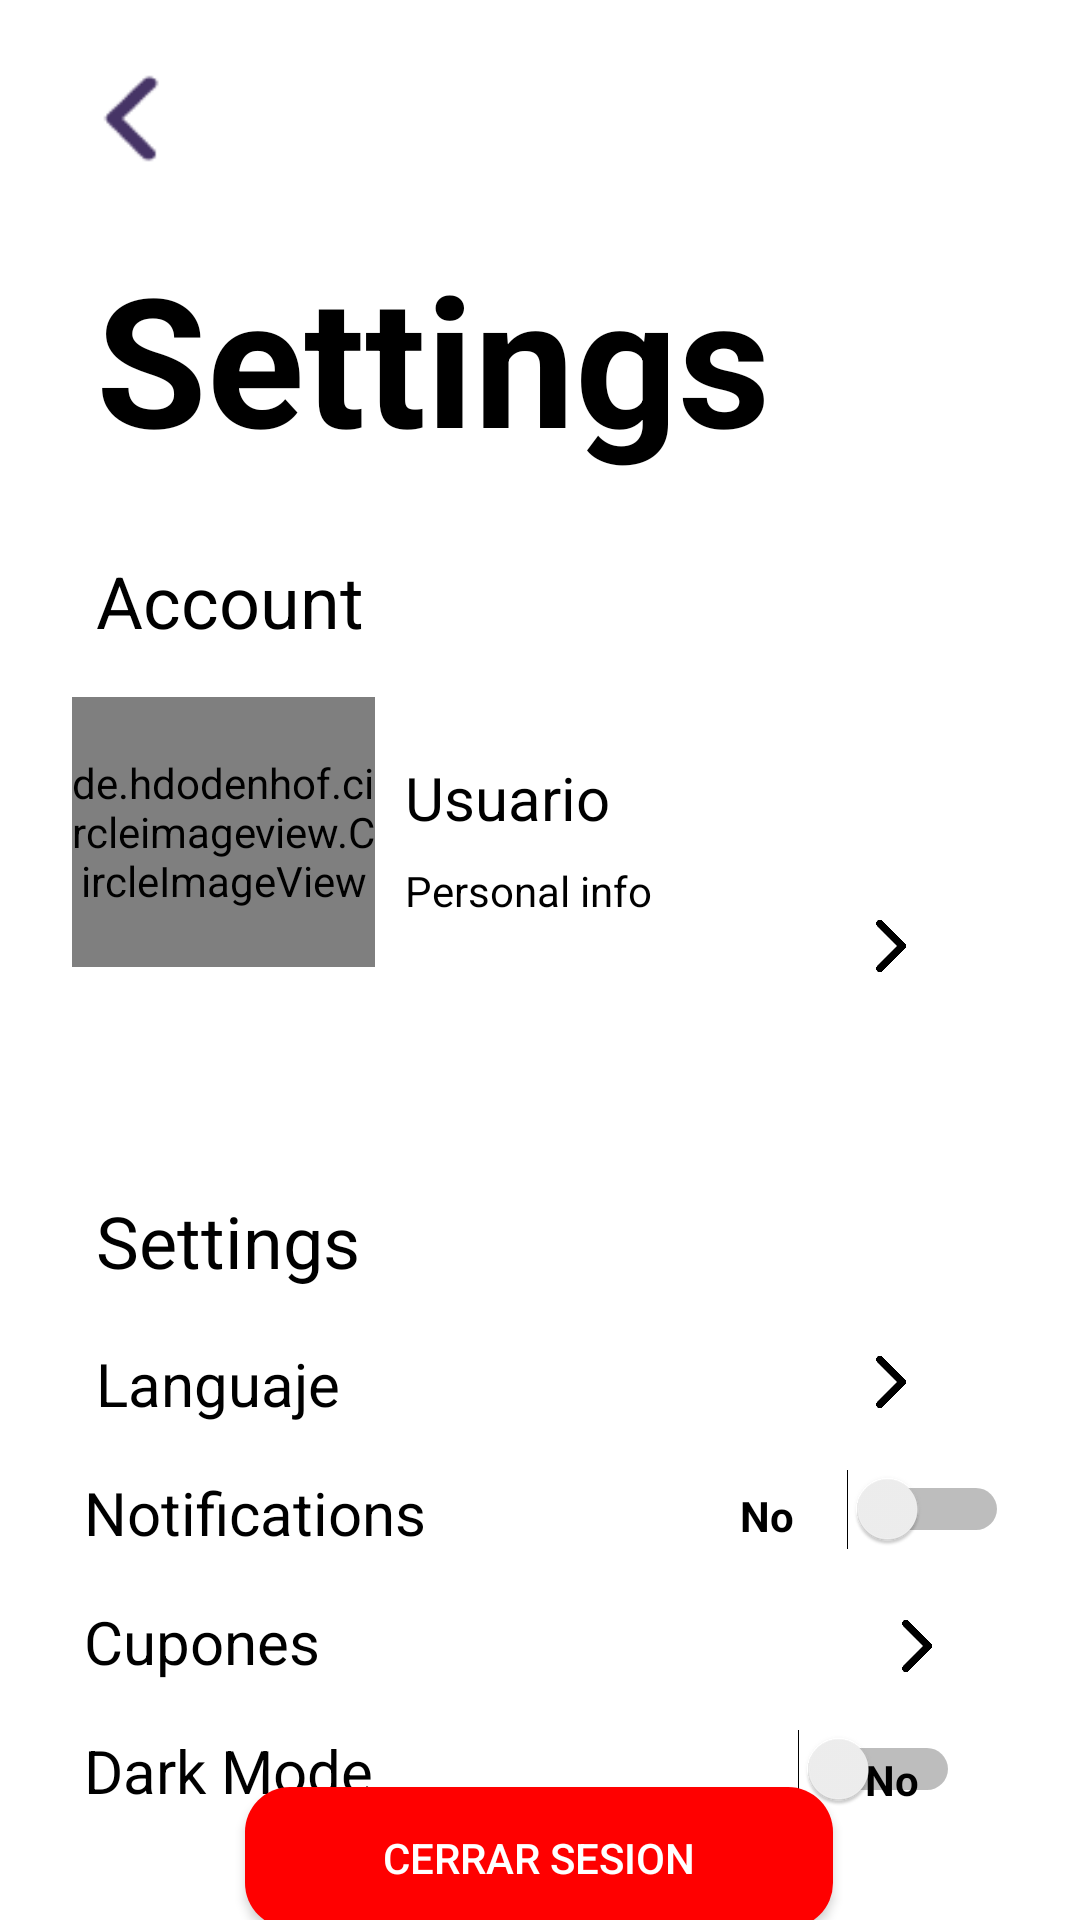

Icons on this 1080*1920 Android screen, each with its box as [x1,y1,x2,y2]:
arrow back: [104,76,159,161]
arrow derecha: [876,920,906,972], [876,1356,906,1408], [902,1620,932,1672]
